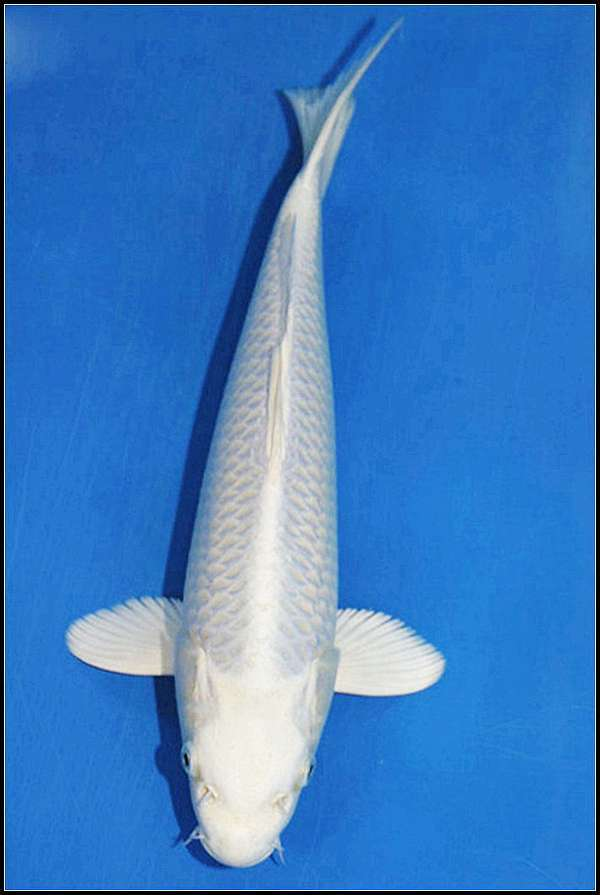white: (63, 15, 449, 870)
